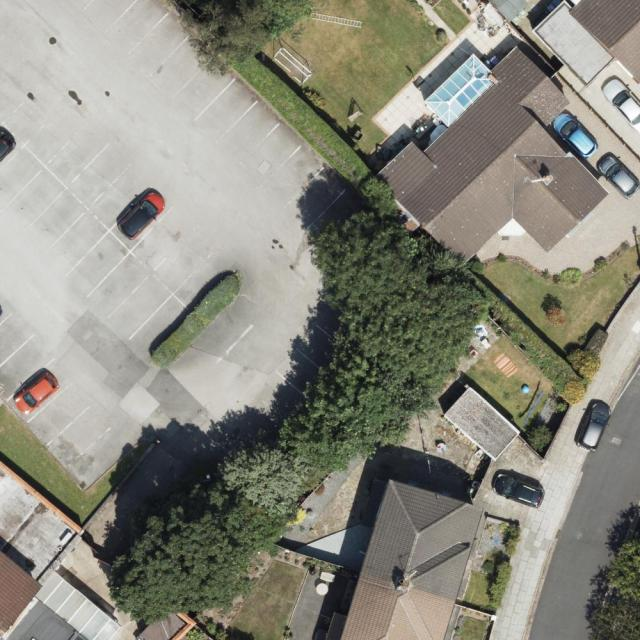roof: (372, 47, 611, 272), (0, 460, 137, 640), (339, 479, 487, 640), (530, 0, 640, 90), (442, 388, 521, 460)
skylight: (424, 54, 497, 128)
